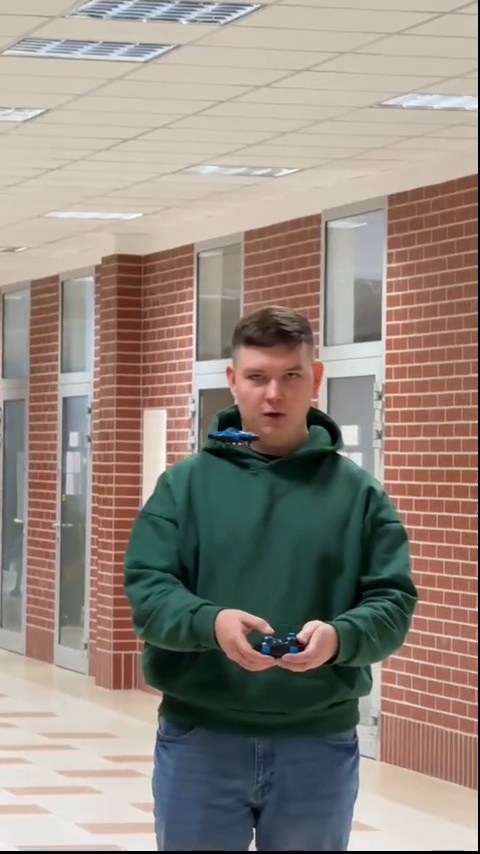drone: (213, 429, 259, 445)
no vest: (118, 316, 423, 843)
